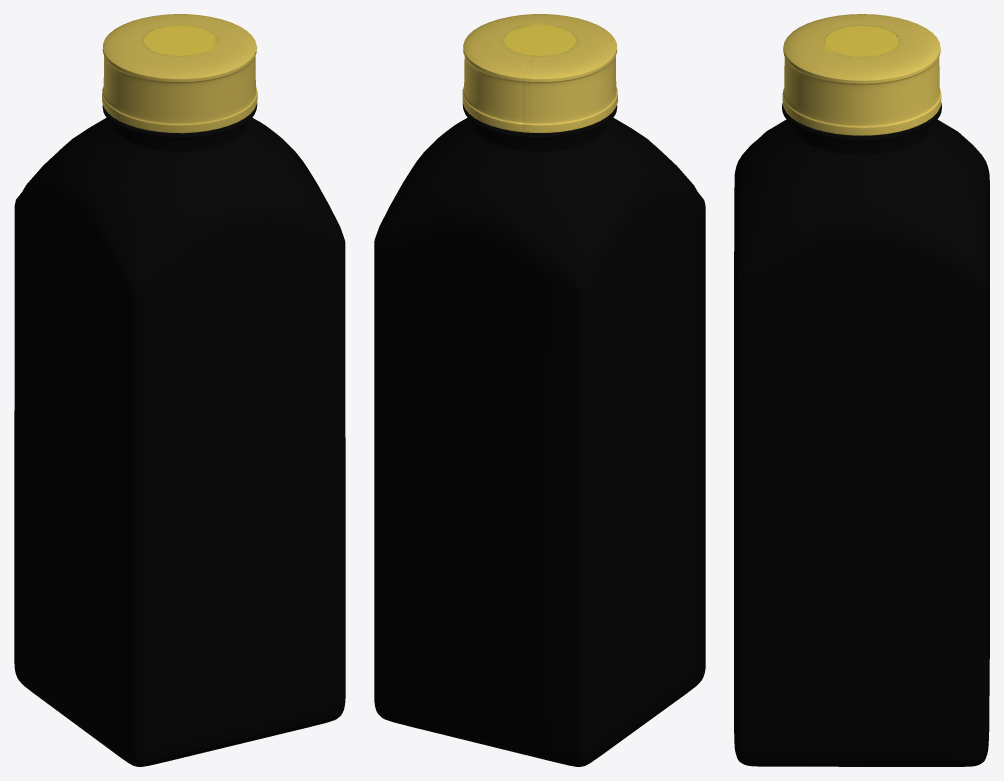
File: mango_shake_bottle_l_baked.glb
The picture shows the model from 3 angles, left to right: view 1: azimuth 30°, elevation 25°; view 2: azimuth 150°, elevation 25°; view 3: azimuth 270°, elevation 25°; orthographic projection. The views are drawn at different scales.
Visible parts, largest first — view 1: Bottle_0, ManiPiece_4; view 2: Bottle_0, ManiPiece_4; view 3: Bottle_0, ManiPiece_4.
Boxes of the visible parts, bbox=[...] form: Bottle_0: bbox=[14, 104, 345, 766]; ManiPiece_4: bbox=[102, 14, 257, 133]; Bottle_0: bbox=[374, 103, 705, 766]; ManiPiece_4: bbox=[462, 14, 617, 132]; Bottle_0: bbox=[734, 103, 989, 766]; ManiPiece_4: bbox=[782, 14, 941, 135].
Size of the model in its own units: 0.5897 by 1.73 by 0.5897.
5 materials, 4 textured.
